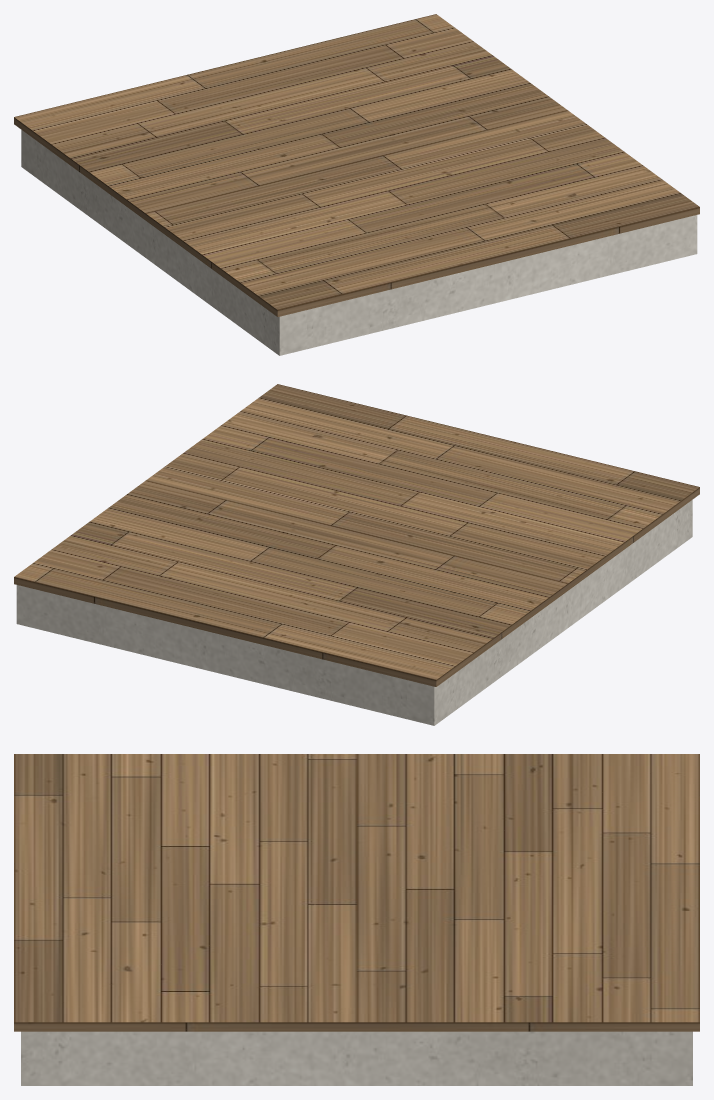
The model's file is floor_wood_c_e0_15_0_0.glb.
3 renders of one model, top to bottom at view 1: azimuth 30°, elevation 25°; view 2: azimuth 150°, elevation 25°; view 3: azimuth 270°, elevation 25°, orthographic. The views are drawn at different scales.
Visible parts, largest first — view 1: floor_wood_c_e0_15_0_0_attic, floor_wood_c_e0_15_0_0_plaster; view 2: floor_wood_c_e0_15_0_0_attic, floor_wood_c_e0_15_0_0_plaster; view 3: floor_wood_c_e0_15_0_0_attic, floor_wood_c_e0_15_0_0_plaster.
Part boxes in pixels (bbox=[...]): floor_wood_c_e0_15_0_0_attic: bbox=[14, 14, 699, 316]; floor_wood_c_e0_15_0_0_plaster: bbox=[21, 130, 697, 355]; floor_wood_c_e0_15_0_0_attic: bbox=[14, 384, 699, 686]; floor_wood_c_e0_15_0_0_plaster: bbox=[16, 500, 692, 725]; floor_wood_c_e0_15_0_0_attic: bbox=[14, 754, 699, 1031]; floor_wood_c_e0_15_0_0_plaster: bbox=[21, 1031, 692, 1085].
Bounding box in the file's own units: 1.85 × 0.205 × 2.
Materials: 2 (2 with a texture image).
